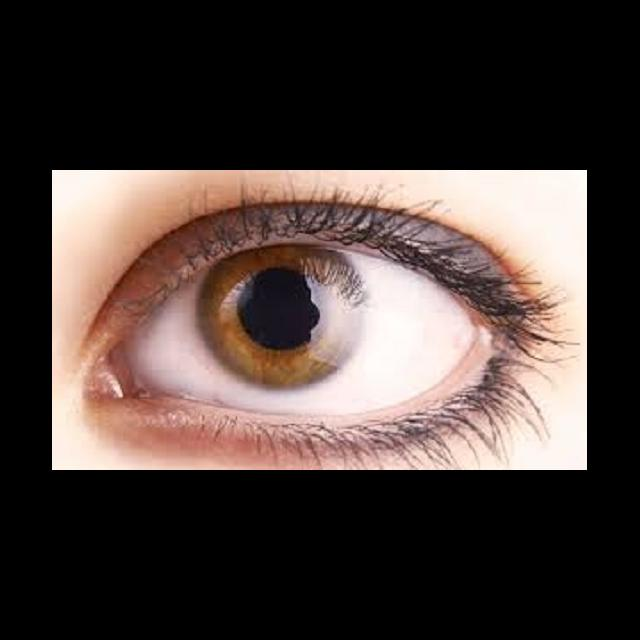eye: (124, 245, 477, 417)
iris: (198, 251, 367, 390)
